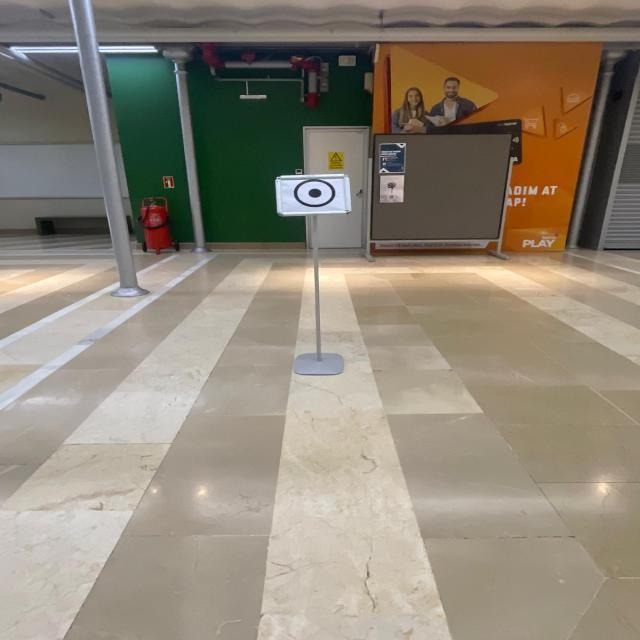Target: (265, 163, 364, 222)
inner: (301, 187, 331, 201)
